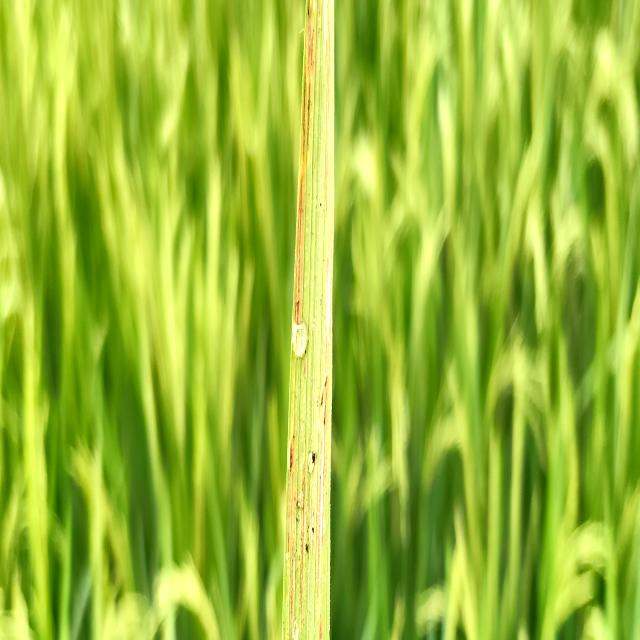NBS: (316, 428, 325, 606), (324, 211, 333, 374), (294, 180, 303, 321), (325, 28, 331, 225), (299, 456, 305, 598), (290, 540, 294, 640), (306, 80, 311, 153), (302, 79, 306, 161), (288, 510, 290, 555), (319, 622, 322, 640)
